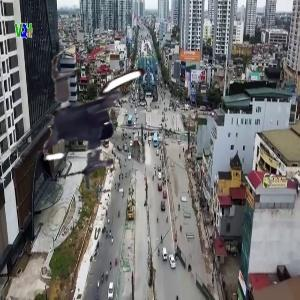drone: (20, 36, 184, 200)
